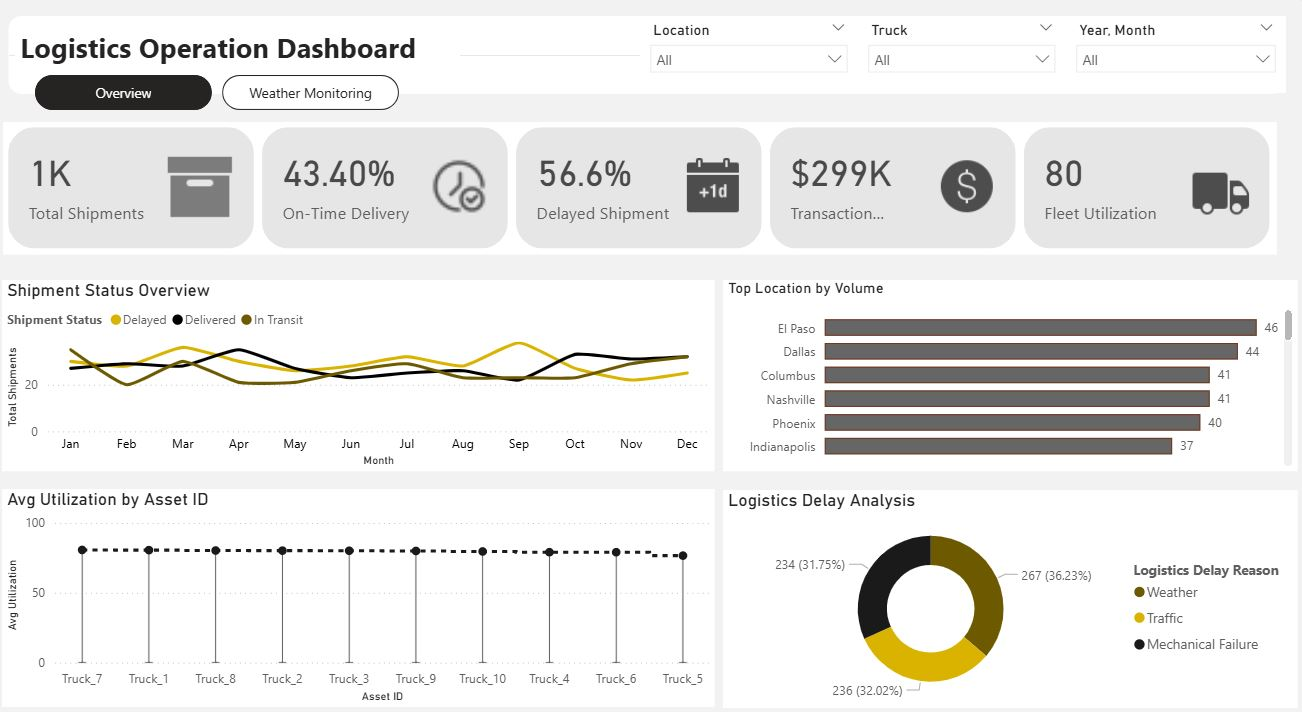

Layout of this report page (visuals, bound fields, positions):
{"tool":"powerbi","page":{"name":"Overview","canvas":[1280,720],"ordinal":0},"visuals":[{"type":"cardVisual","fields":{"Data":["_Mesaures.Total Shipments","_Mesaures.On-Time %","_Mesaures.Delayed %","_Mesaures.Transaction Amount","_Mesaures.Avg Utilization"]},"box":[9.5,127.4,1239.3,128.6],"z":0},{"type":"slicer","fields":{"Values":["logisticsData.City"]},"box":[629.3,24.7,212,75.2],"z":1000},{"type":"slicer","fields":{"Values":["Date.Year","Date.Month"]},"box":[1043.3,24.7,214.3,75.2],"z":2000},{"type":"slicer","fields":{"Values":["logisticsData.Asset ID"]},"box":[841.4,24.7,201.9,75.2],"z":3000},{"type":"lineChart","title":"Shipment Status Overview","fields":{"Category":["Date.Month"],"Y":["_Mesaures.Total Shipments"],"Series":["logisticsData.Shipment Status"]},"box":[9,281.6,693.3,186.2],"z":4000},{"type":"lineChart","fields":{"Category":["logisticsData.Asset ID"],"Y":["_Mesaures.Avg Utilization"]},"box":[9,484.6,693.3,212],"z":5000},{"type":"barChart","title":"Top Location by Volume","fields":{"Category":["logisticsData.City"],"Y":["_Mesaures.Total Shipments"]},"box":[710.1,281.6,558.7,186.2],"z":6000},{"type":"donutChart","title":"Logistics Delay Analysis","fields":{"Category":["logisticsData.Logistics Delay Reason"],"Y":["_Mesaures.Total Shipments"]},"box":[710,485,559,212],"z":6001},{"type":"textbox","box":[21.3,31.4,433,62.8],"z":6002},{"type":"pageNavigator","box":[40.4,81.9,355.6,34.8],"z":6003}]}

Visuals, with their boxes in screenshot pixels (x1, y1, x2, y2), scaled from the page's 1280x720 canvas onto the 1302x712 screenshot:
cardVisual - _Mesaures.Total Shipments x _Mesaures.On-Time %: {"x1": 10, "y1": 126, "x2": 1270, "y2": 253}
slicer - logisticsData.City: {"x1": 640, "y1": 24, "x2": 856, "y2": 99}
slicer - Date.Year x Date.Month: {"x1": 1061, "y1": 24, "x2": 1279, "y2": 99}
slicer - logisticsData.Asset ID: {"x1": 856, "y1": 24, "x2": 1061, "y2": 99}
"Shipment Status Overview" lineChart: {"x1": 9, "y1": 278, "x2": 714, "y2": 463}
lineChart - logisticsData.Asset ID x _Mesaures.Avg Utilization: {"x1": 9, "y1": 479, "x2": 714, "y2": 689}
"Top Location by Volume" barChart: {"x1": 722, "y1": 278, "x2": 1291, "y2": 463}
"Logistics Delay Analysis" donutChart: {"x1": 722, "y1": 480, "x2": 1291, "y2": 689}
textbox: {"x1": 22, "y1": 31, "x2": 462, "y2": 93}
pageNavigator: {"x1": 41, "y1": 81, "x2": 403, "y2": 115}
